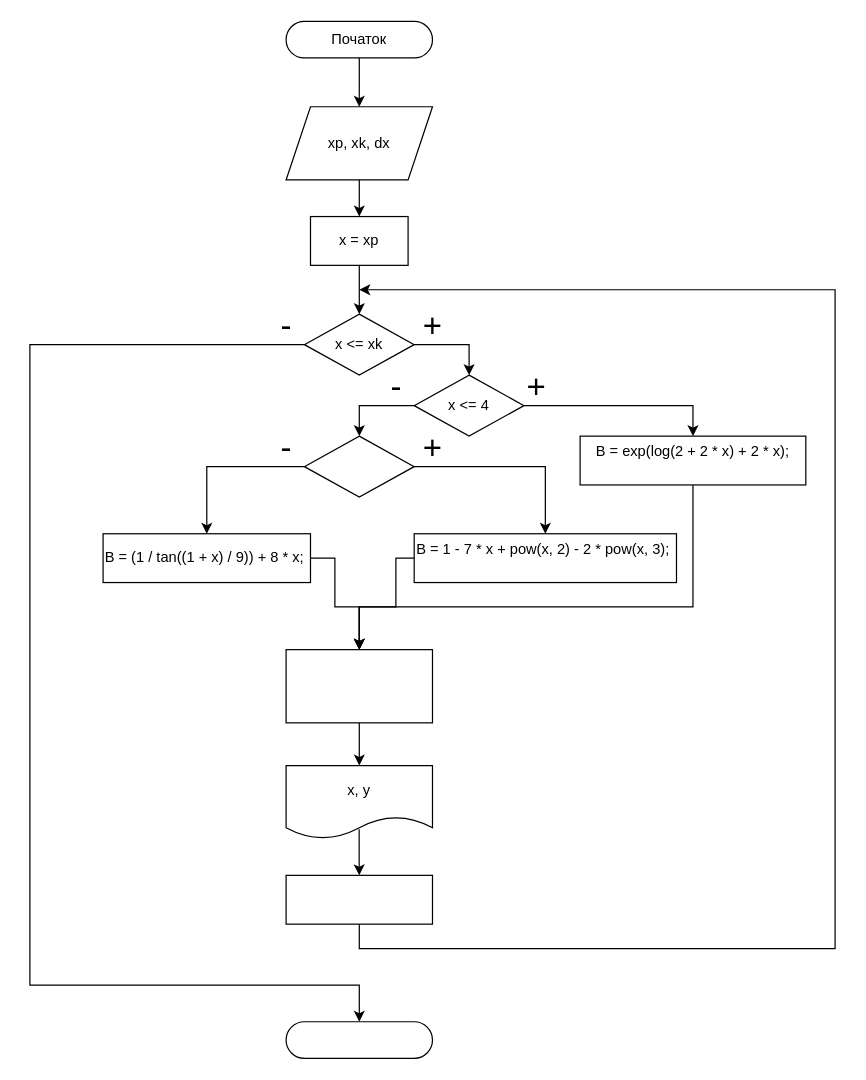
This 866x1080 diagram has some shape labels left out. The shapes that lost their labels are listed below. From the top down, each one's centre as x and y in pixels, then its label:
(x=358, y=466): x > 7
(x=358, y=685): y = 1 + x + B
(x=358, y=899): x += dx
(x=358, y=1039): Кінець
